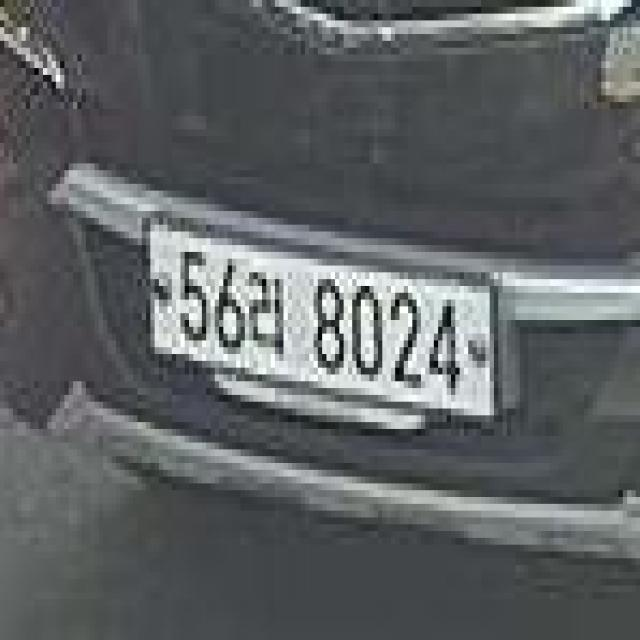illegal_plate: (142, 213, 502, 444)
